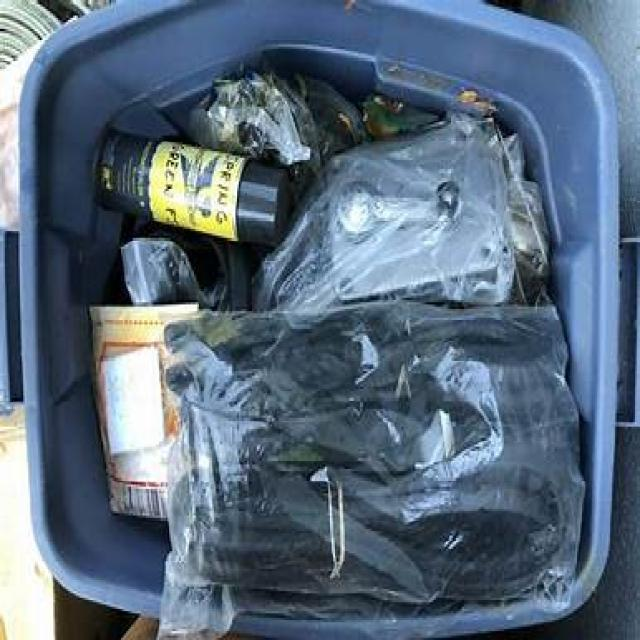Garbage: (20, 3, 618, 636)
Plastic: (188, 72, 364, 180)
Plastic_Bag: (160, 302, 584, 636), (258, 114, 540, 309)
Plastic_bottle: (98, 132, 292, 245)
